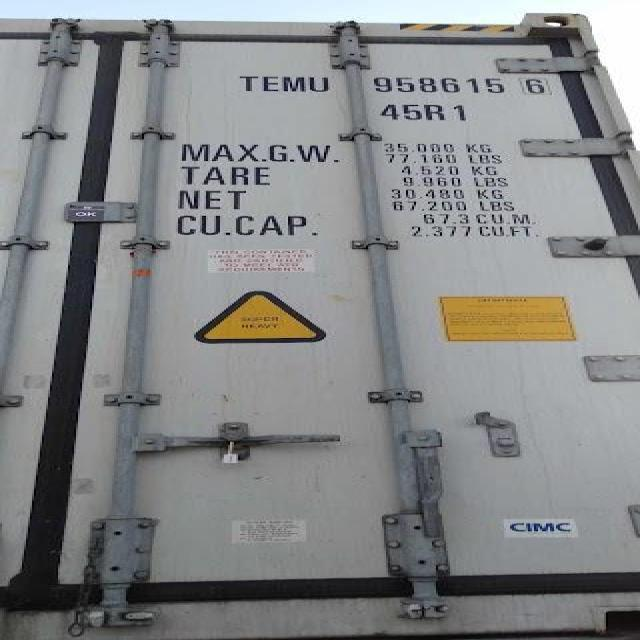ISO: (377, 100, 479, 124)
container_number: (235, 70, 560, 98)
